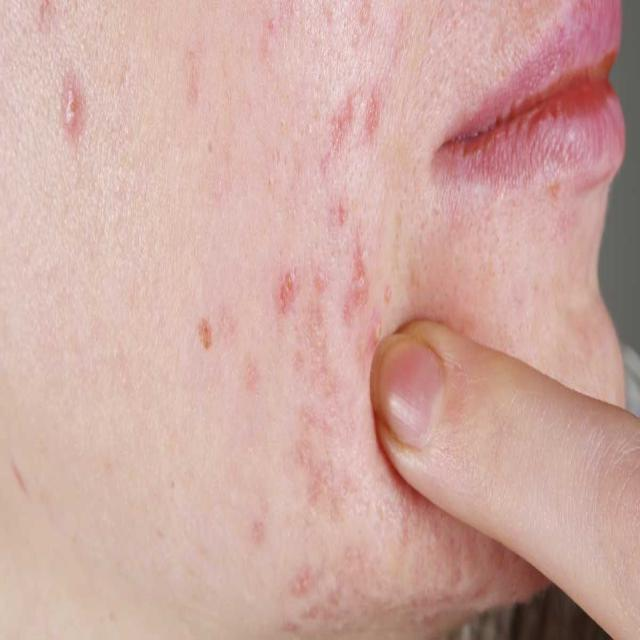Acne: (36, 2, 374, 496)
